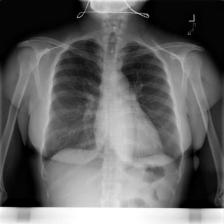normal: (37, 29, 186, 179)
